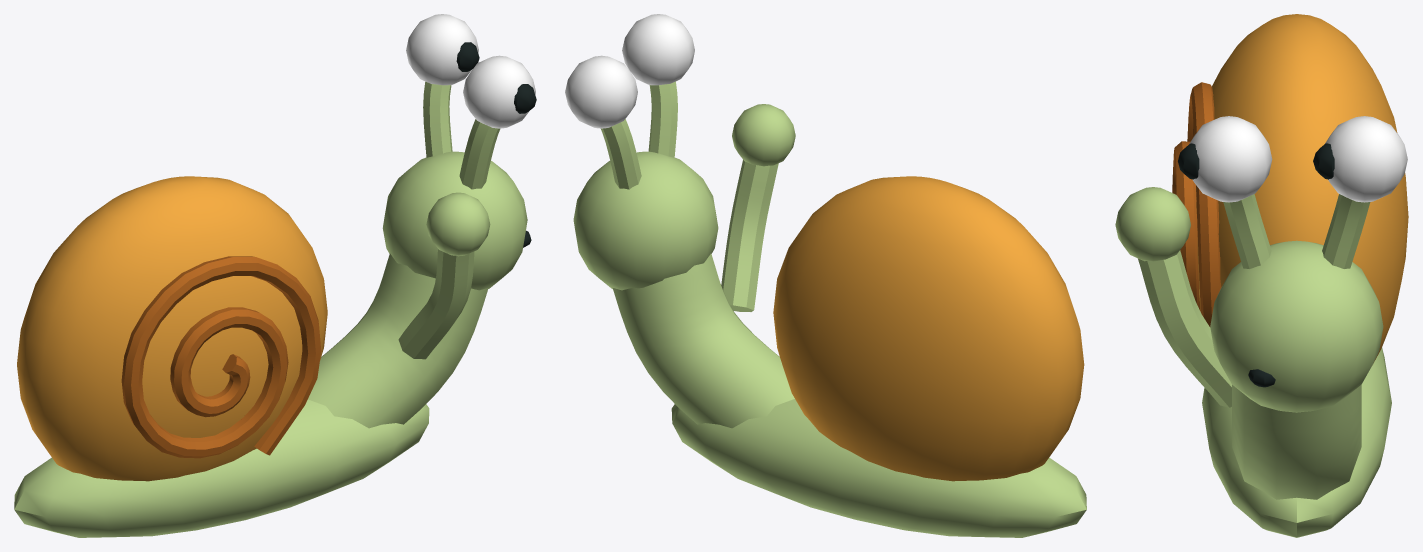
Rendered from snail.glb.
The picture shows the model from 3 angles, left to right: view 1: azimuth 30°, elevation 25°; view 2: azimuth 150°, elevation 25°; view 3: azimuth 270°, elevation 25°; orthographic projection. The views are drawn at different scales.
Visible parts, largest first — view 1: Snail_Body, Snail_Arm; view 2: Snail_Body, Snail_Arm; view 3: Snail_Body, Snail_Arm.
Part boxes in pixels (left/top/right/bottom): Snail_Body: left=14, top=14, right=536, bottom=537; Snail_Arm: left=398, top=192, right=490, bottom=359; Snail_Body: left=565, top=14, right=1086, bottom=537; Snail_Arm: left=721, top=104, right=795, bottom=311; Snail_Body: left=1172, top=14, right=1408, bottom=537; Snail_Arm: left=1115, top=187, right=1231, bottom=407.
Size of the model in its own units: 0.255 by 0.2004 by 0.1082.
